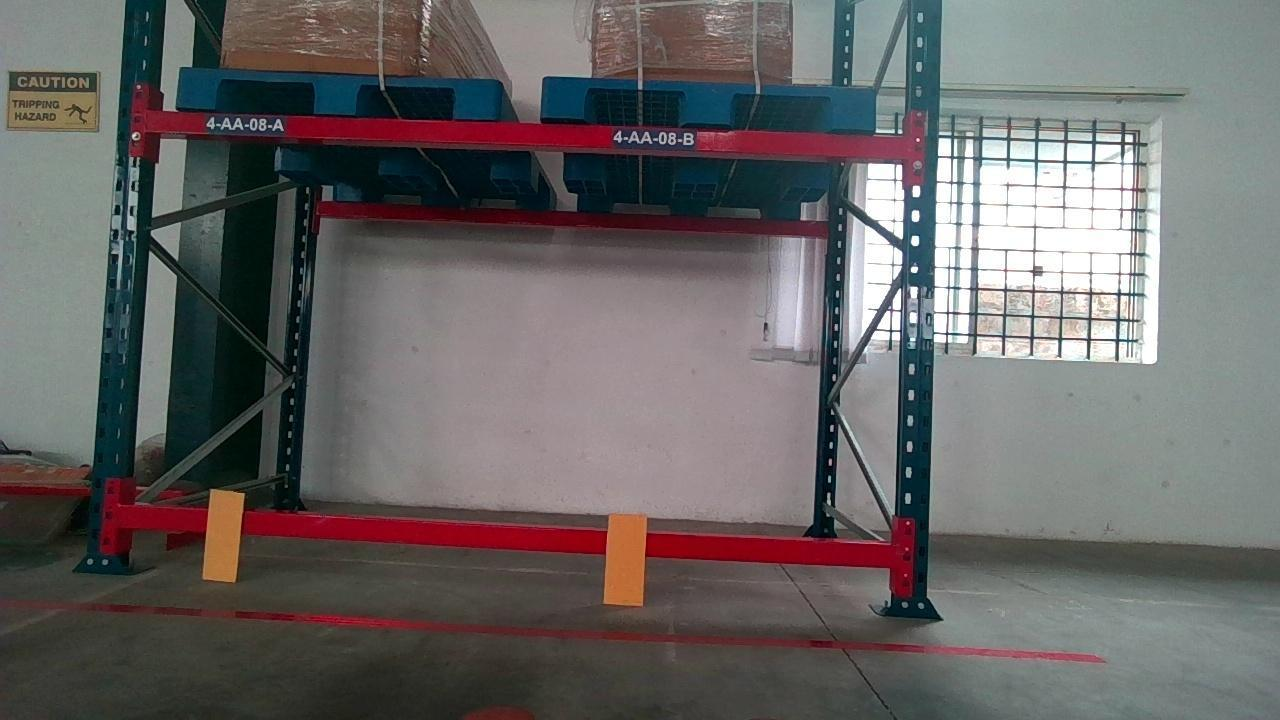h_rack: (123, 505, 901, 569), (146, 112, 917, 162)
orange_strip: (603, 512, 647, 605), (201, 489, 243, 579)
red_line: (67, 601, 1111, 663)
small_pallet: (545, 80, 877, 126), (178, 71, 498, 114)
